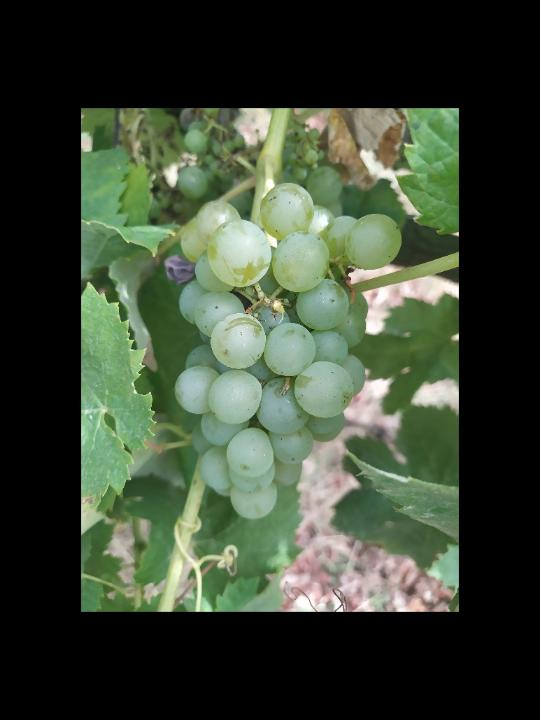grape: (171, 180, 404, 522)
